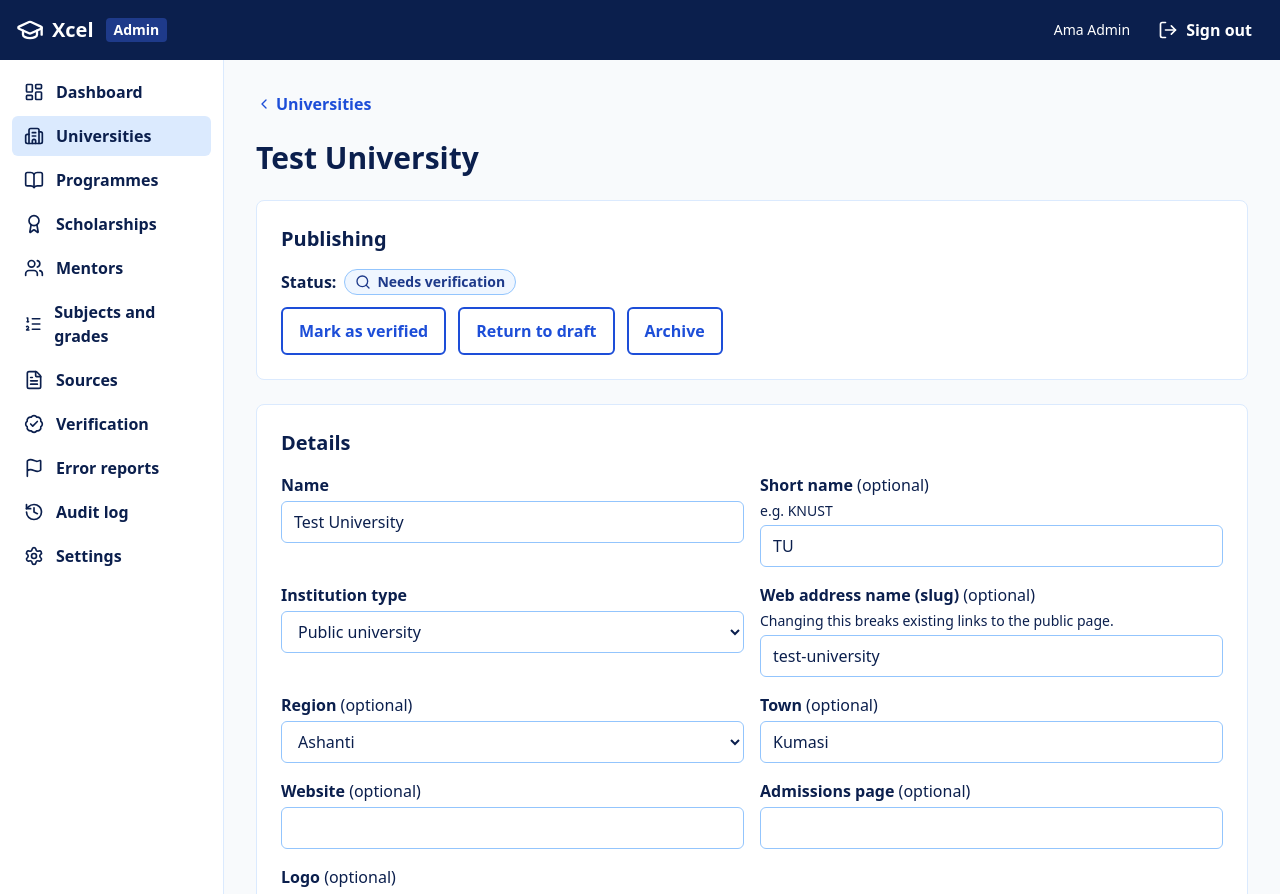
university editing › confirms before archiving
The image size is (1280, 894).
What coordinates should you click on to do the following:
click the button "Archive"
I would click on:
 (675, 331)
Its box is [626,307,723,355].
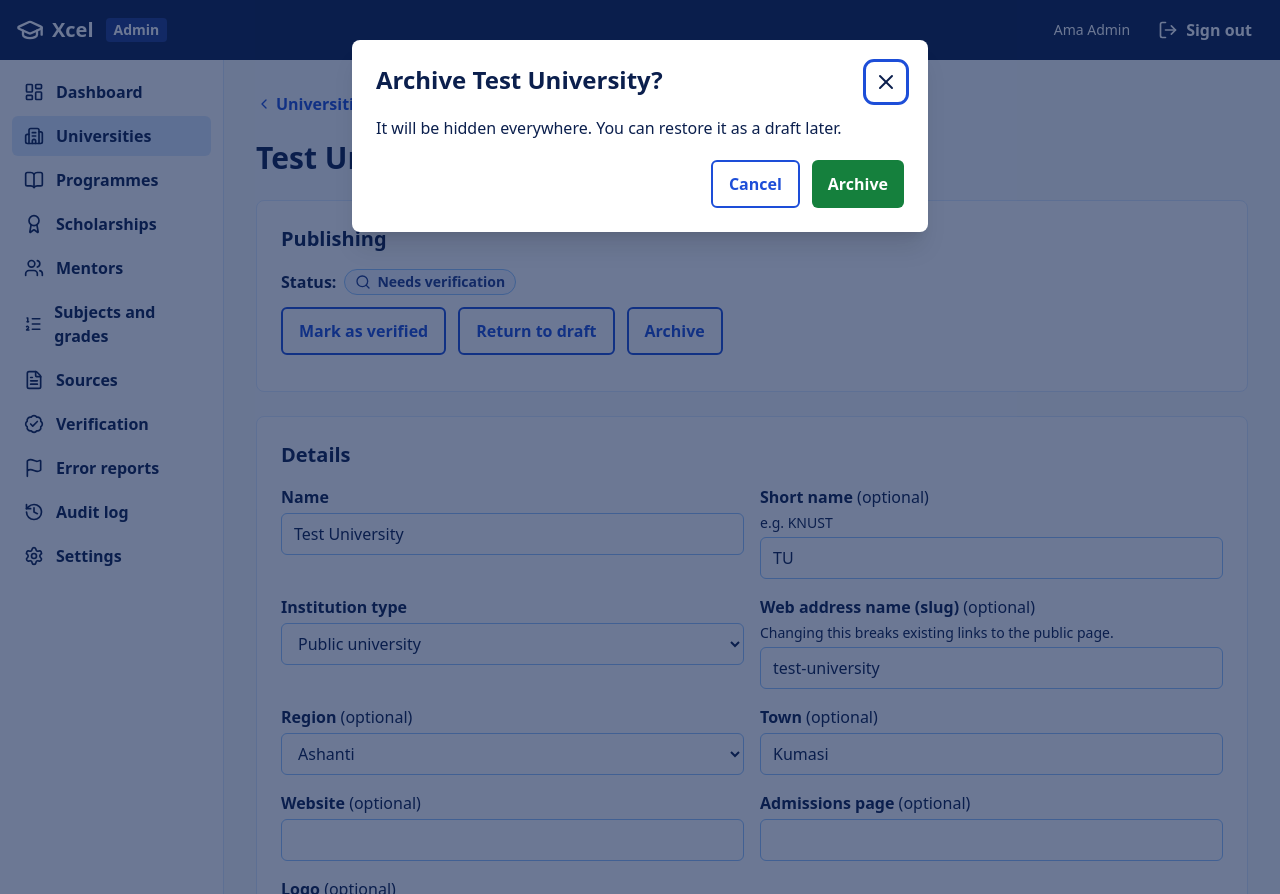
What coordinates should you click on to do the following:
click the button "Archive"
I would click on:
 (858, 184)
Its box is [812,160,904,208].
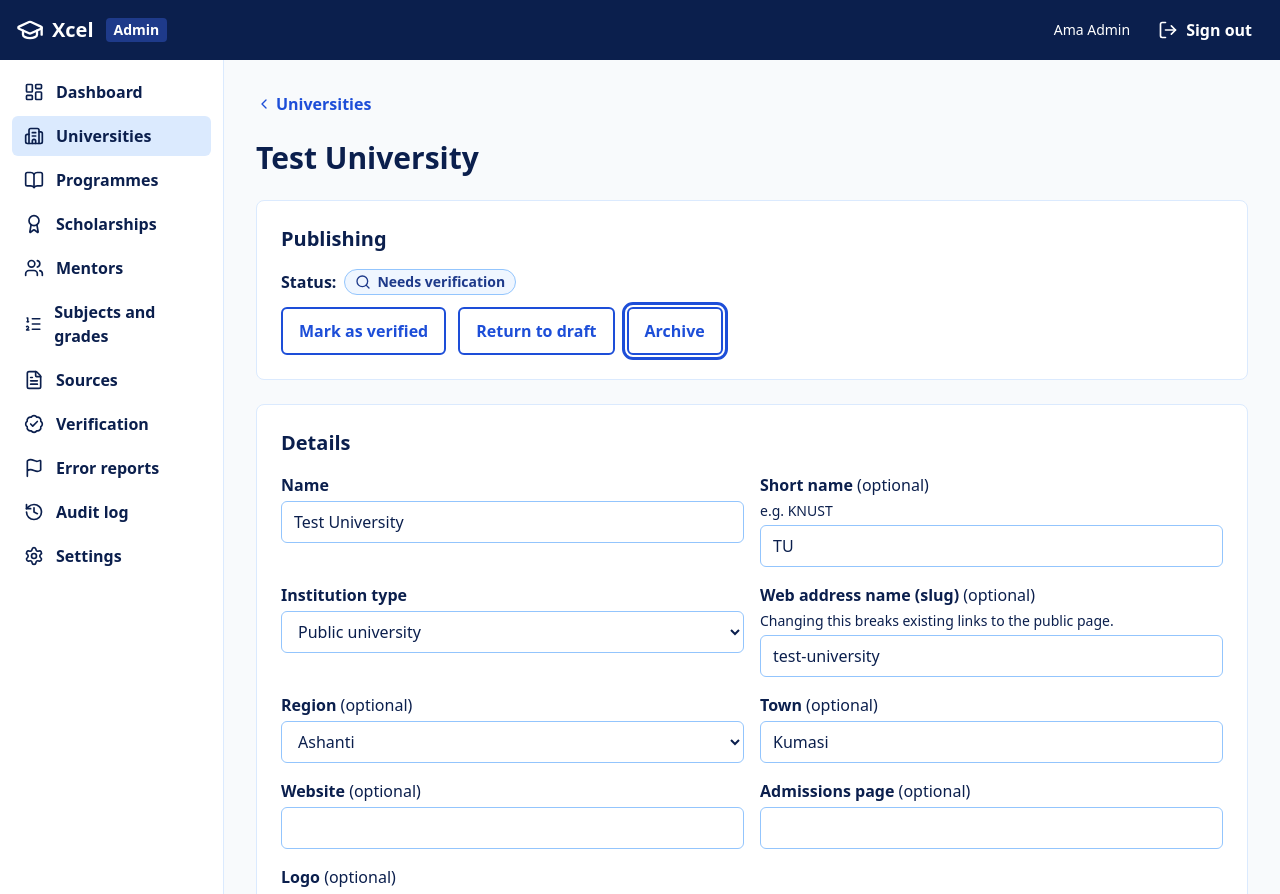
Expected: the dialog is gone
